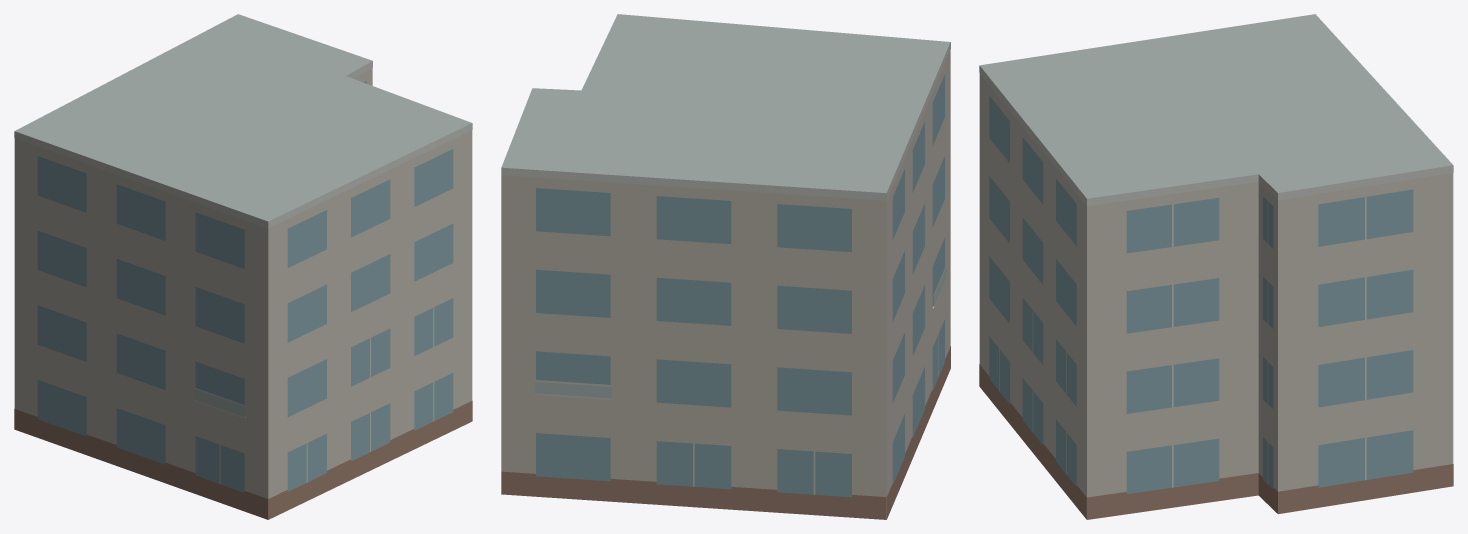
File: survey-upis-32864788.glb
The picture shows the model from 3 angles, left to right: view 1: azimuth 30°, elevation 25°; view 2: azimuth 150°, elevation 25°; view 3: azimuth 270°, elevation 25°; orthographic projection. The views are drawn at different scales.
Parts seen in each view (by area): view 1: survey-upis-32864788.tmp; view 2: survey-upis-32864788.tmp; view 3: survey-upis-32864788.tmp.
Part boxes in pixels (x1,y1,x2,y2): survey-upis-32864788.tmp: (14,14,472,519); survey-upis-32864788.tmp: (501,14,950,519); survey-upis-32864788.tmp: (979,14,1453,519).
Size of the model in its own units: 13.09 by 10.6 by 14.19.
